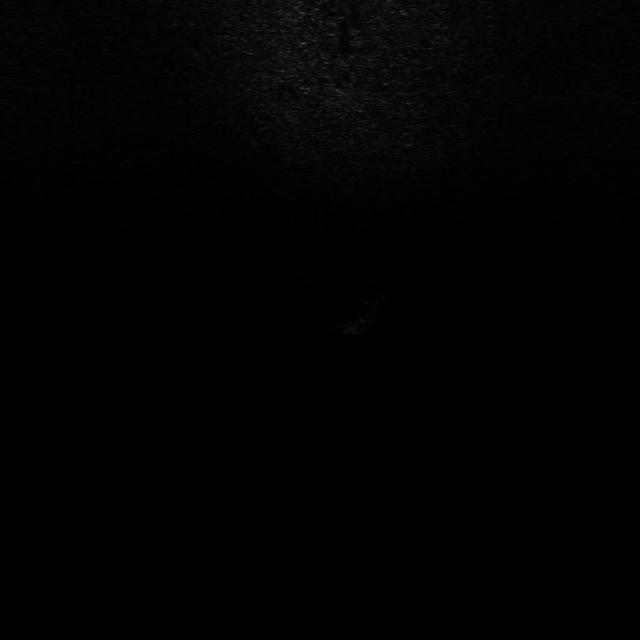human body: (326, 293, 394, 337)
